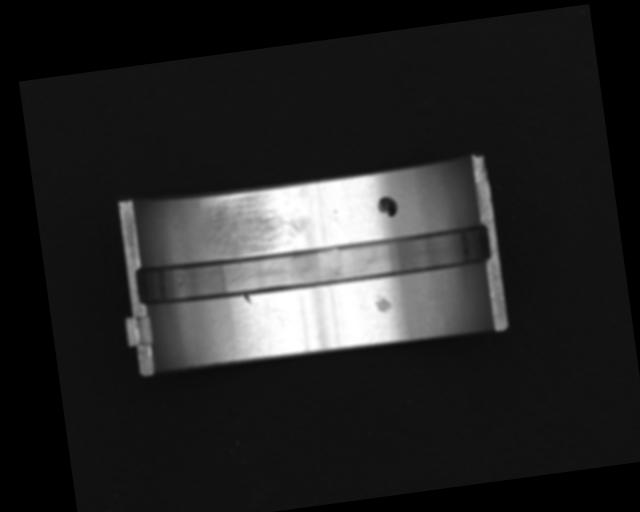blot: (377, 193, 399, 220)
bruise: (373, 290, 395, 315), (243, 293, 252, 306)
gap: (131, 221, 494, 309)
scratch: (201, 185, 312, 259)
